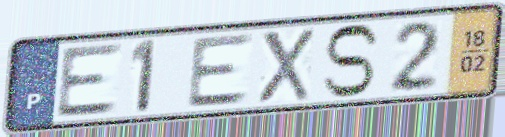1: (128, 37, 157, 115)
2: (387, 18, 444, 96)
E: (184, 31, 257, 111), (53, 41, 126, 121)
S: (319, 22, 383, 100)
X: (255, 27, 316, 106)
